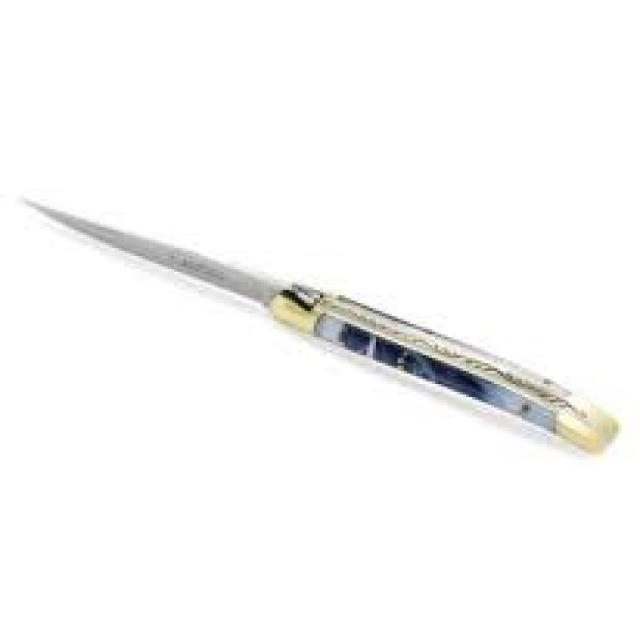knives: (12, 185, 624, 462)
